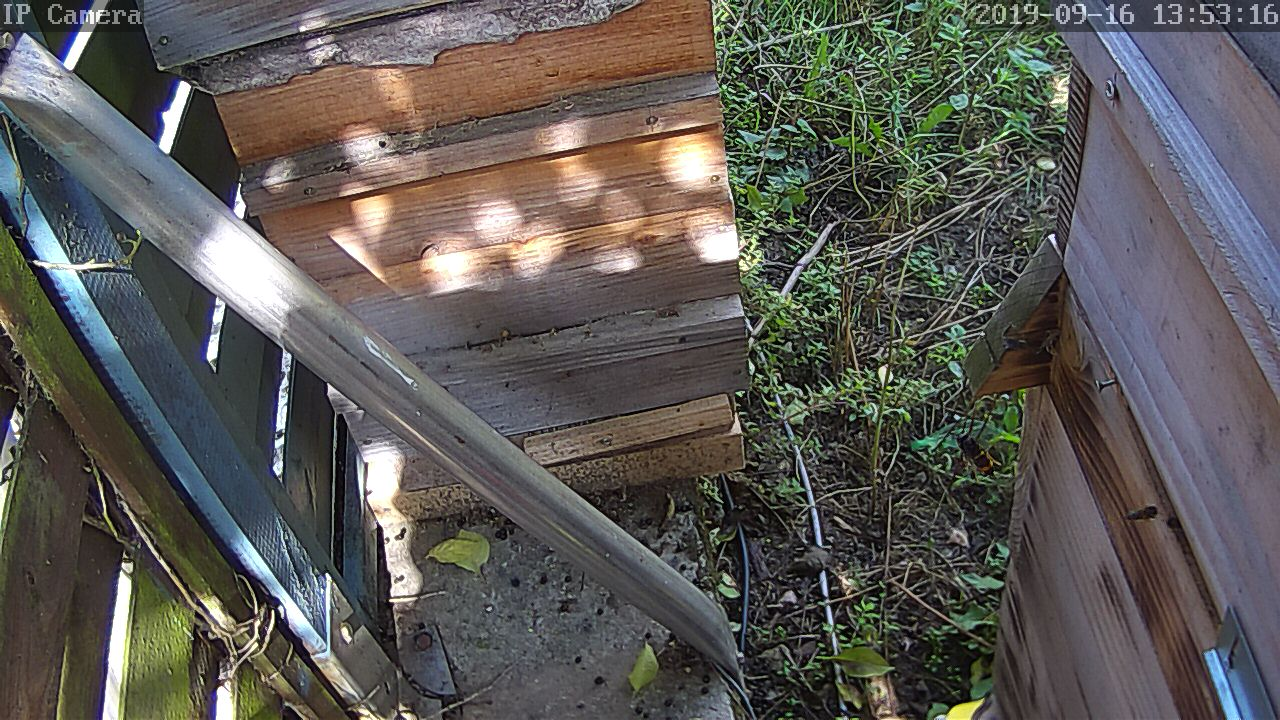bee: (1126, 502, 1164, 531)
hornet: (945, 419, 1004, 481)
